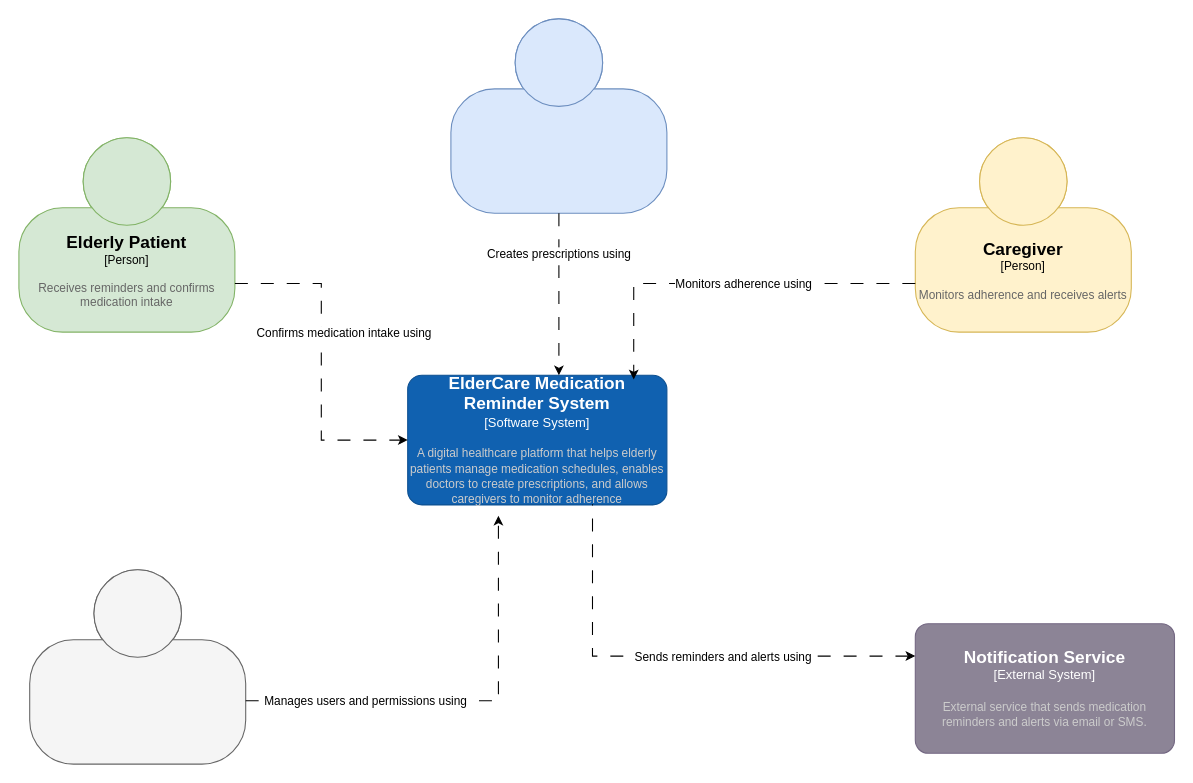
The diagram is 1193 pixels wide and 783 high, and some of its shapes have lost their labels. The centre of each missing label's shape, as x and y in pixels:
"Admin [Person] Manages users and permissions" belongs at (x=137, y=666).
"Doctor [Person] Creates prescriptions and manages treatment" belongs at (x=558, y=115).
